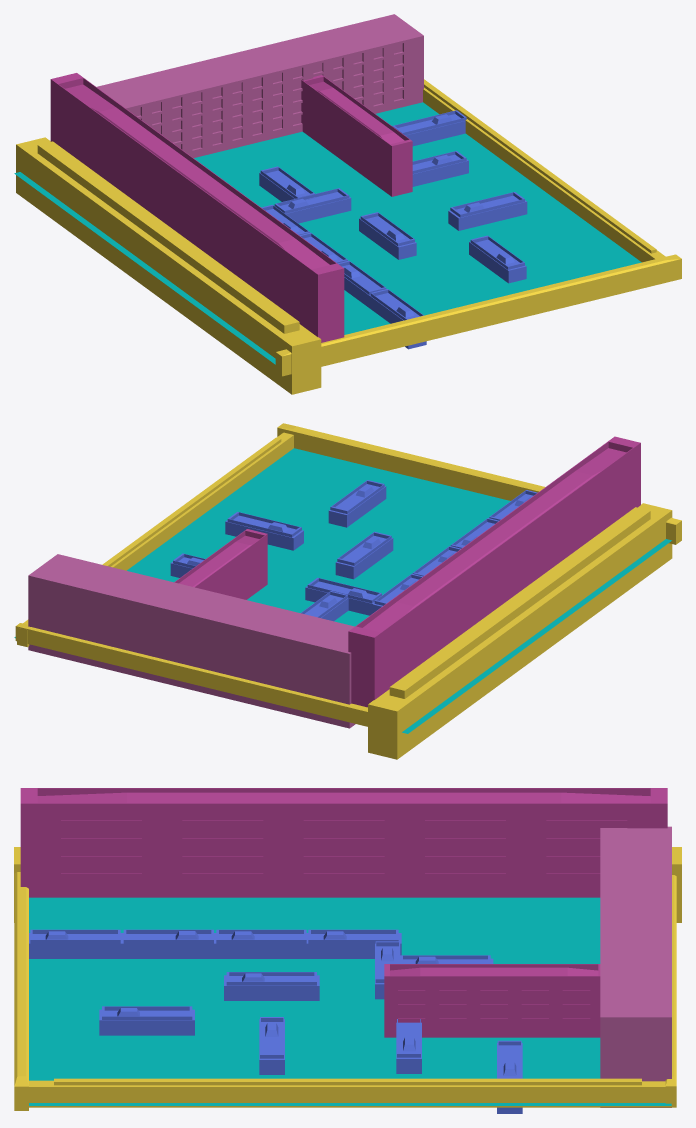
Rendered from level0.fbx.
3 views of the same model, one above another, from view 1: azimuth 30°, elevation 25°; view 2: azimuth 150°, elevation 25°; view 3: azimuth 270°, elevation 25° (orthographic). The views are drawn at different scales.
Visible parts, largest first — view 1: Floor, Cube.021, Cube.002, Cube.004, Cube.005, Cube, Cube.006, Cube.015, Cube.012, Cube.018, Cube.016, Cube.009 (+4 smaller); view 2: Cube.002, Floor, Cube.021, Cube.004, Cube.007, Cube.005, Cube.006, Cube, Cube.015, Cube.016, Cube.018, Cube.012 (+3 smaller); view 3: Floor, Cube.021, Cube.002, Cube.006, Cube, Cube.005, Cube.018, Cube.019, Cube.017, Cube.016, Cube.014, Cube.013 (+7 smaller).
Part boxes in pixels (box(x1,y1,x2,y2)): Floor: box(14, 102, 641, 364); Cube.021: box(50, 73, 344, 342); Cube.002: box(97, 14, 423, 157); Cube.004: box(16, 137, 321, 394); Cube.005: box(275, 254, 681, 376); Cube: box(301, 75, 412, 196); Cube.006: box(423, 79, 665, 262); Cube.015: box(448, 192, 527, 230); Cube.012: box(274, 188, 351, 223); Cube.018: box(469, 235, 526, 283); Cube.016: box(359, 212, 416, 259); Cube.009: box(392, 110, 466, 146); Cube.002: box(28, 554, 355, 728); Floor: box(14, 448, 671, 733); Cube.021: box(348, 436, 640, 707); Cube.004: box(368, 503, 672, 759); Cube.007: box(15, 623, 367, 726); Cube.005: box(277, 423, 681, 544); Cube.006: box(17, 432, 293, 647); Cube: box(174, 529, 267, 599); Cube.015: box(225, 511, 303, 550); Cube.016: box(335, 531, 393, 579); Cube.018: box(328, 480, 386, 527); Cube.012: box(305, 577, 381, 615); Floor: box(29, 897, 671, 1105); Cube.021: box(20, 788, 667, 897); Cube.002: box(600, 826, 671, 1107); Cube.006: box(29, 1078, 676, 1107); Cube: box(384, 964, 600, 1037); Cube.005: box(14, 872, 28, 1110); Cube.018: box(99, 1006, 194, 1035); Cube.019: box(29, 929, 123, 958); Cube.017: box(121, 929, 216, 958); Cube.016: box(224, 972, 319, 1000); Cube.014: box(214, 929, 308, 958); Cube.013: box(305, 929, 401, 958).
Bounding box in the file's own units: 1729 × 459 × 2065.
